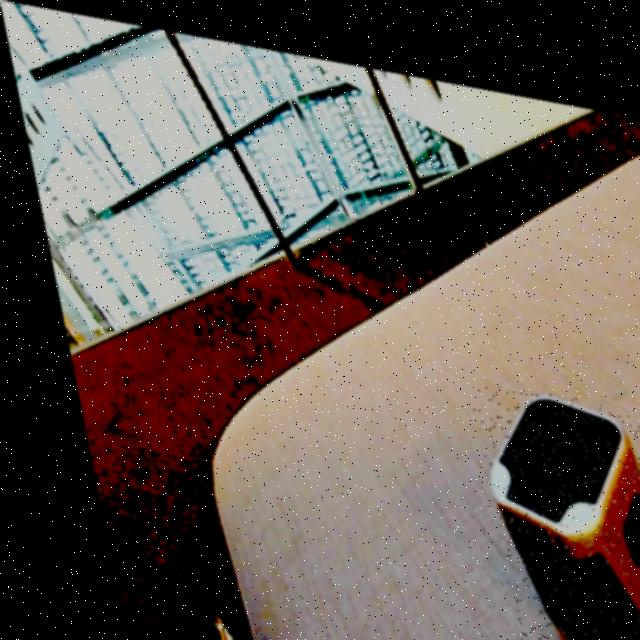adapter: (455, 363, 640, 640)
